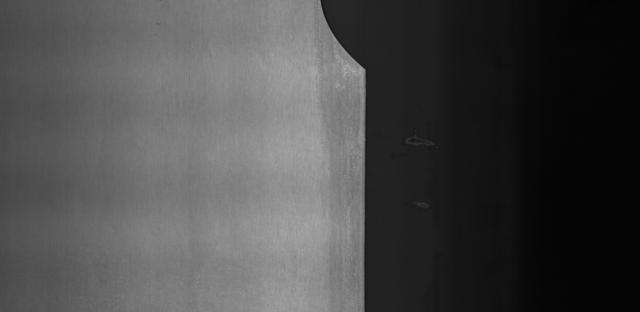crescent_gap: (302, 1, 371, 74)
